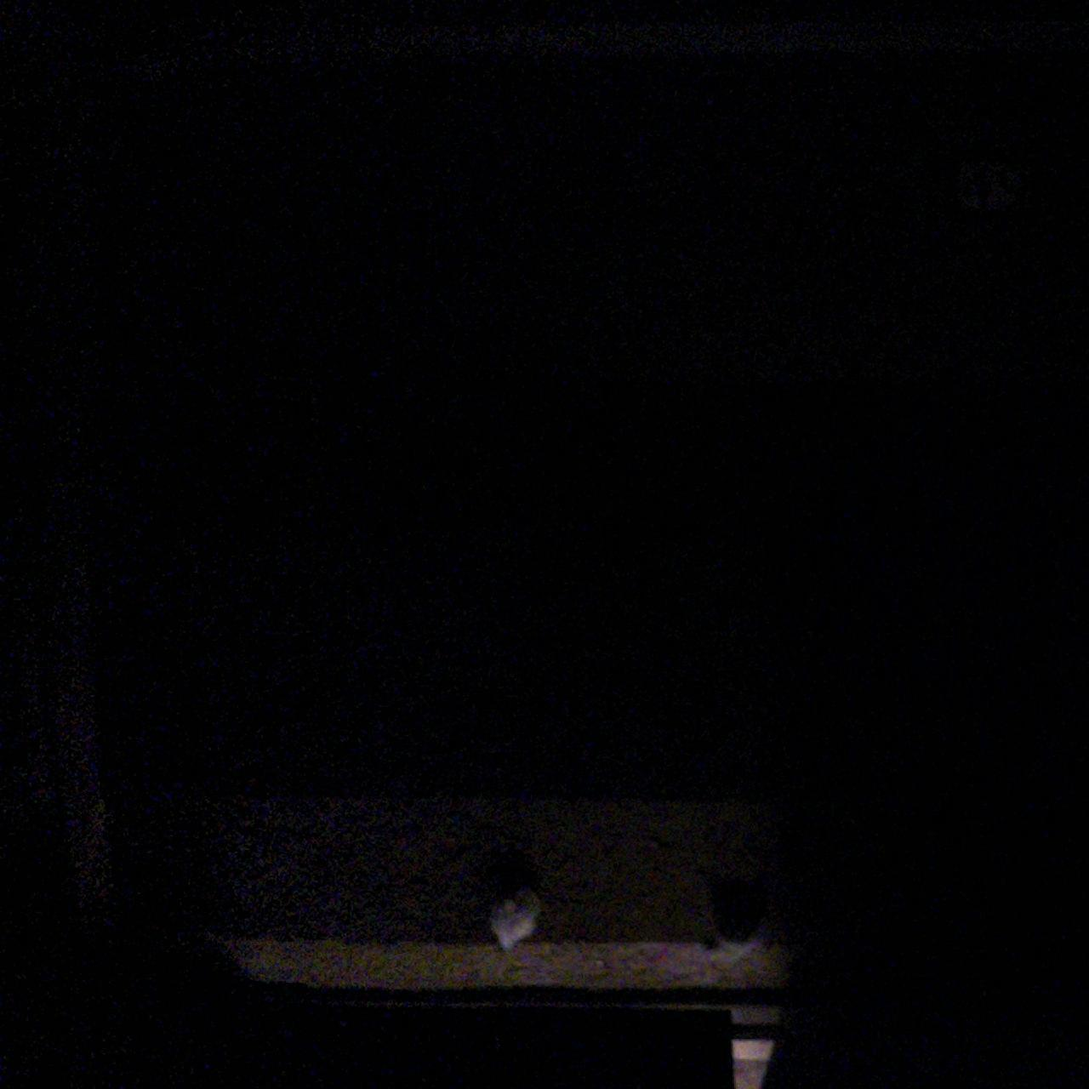chicken: (477, 864, 552, 963), (696, 883, 778, 963)
